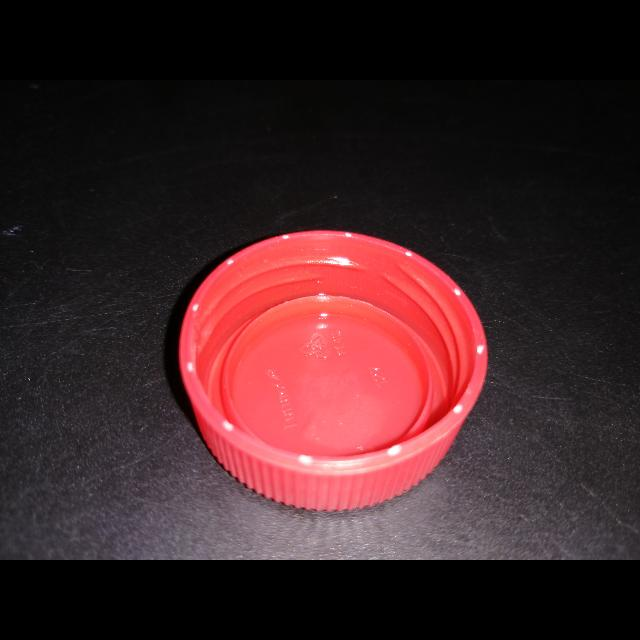plastic_bottle_cap: (177, 228, 488, 514)
